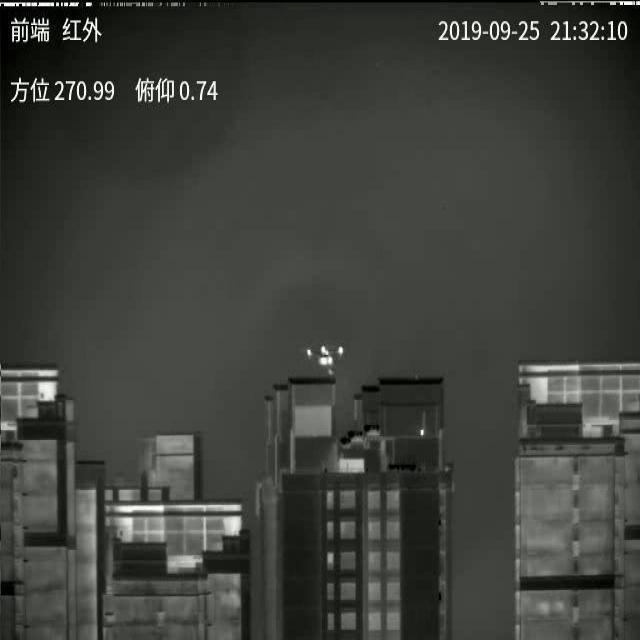drone: (306, 345, 343, 375)
